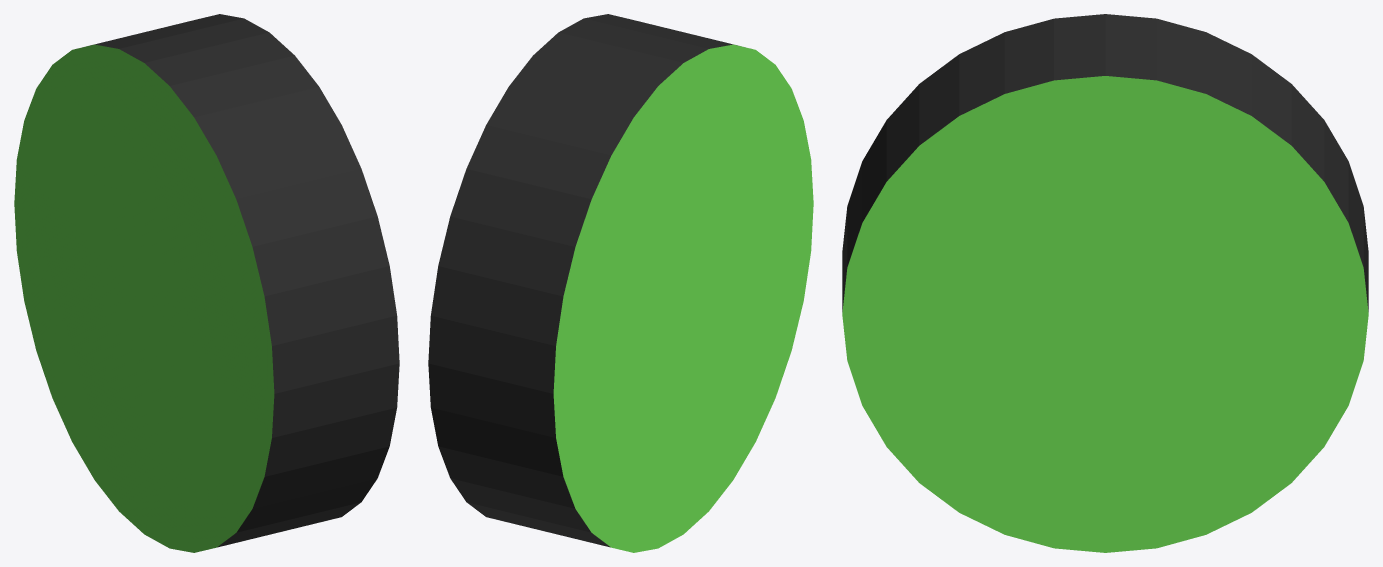
3 renders of one model, left to right at view 1: azimuth 30°, elevation 25°; view 2: azimuth 150°, elevation 25°; view 3: azimuth 270°, elevation 25°, orthographic.
Parts seen in each view (by area): view 1: Cylinder; view 2: Cylinder; view 3: Cylinder.
Boxes of the visible parts, x1,y1,x2,y2 form: Cylinder: [14, 14, 399, 552]; Cylinder: [428, 14, 813, 552]; Cylinder: [842, 14, 1368, 552].
Bounding box in the file's own units: 0.304 × 1.09 × 1.09.
